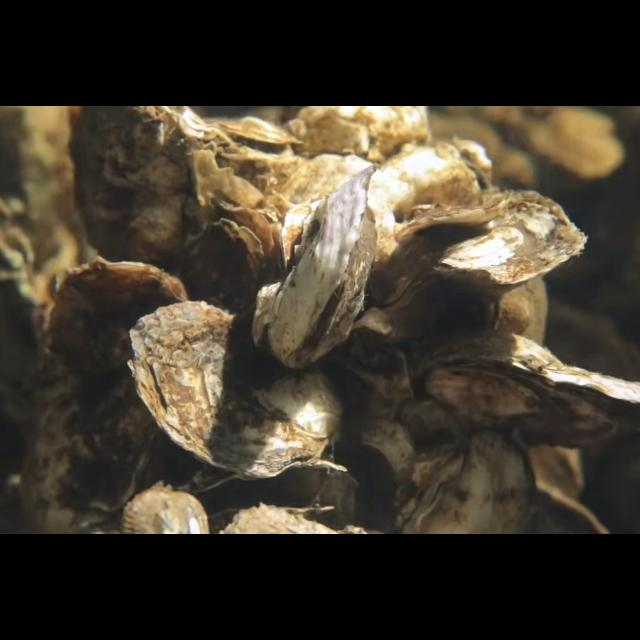Oyster-Closed: (39, 253, 190, 534), (126, 300, 348, 480), (380, 190, 590, 330), (249, 163, 381, 369), (74, 106, 216, 274), (388, 431, 540, 535), (186, 218, 266, 312)
Oyster-Open: (410, 332, 640, 453), (181, 459, 347, 518), (211, 116, 301, 164)
